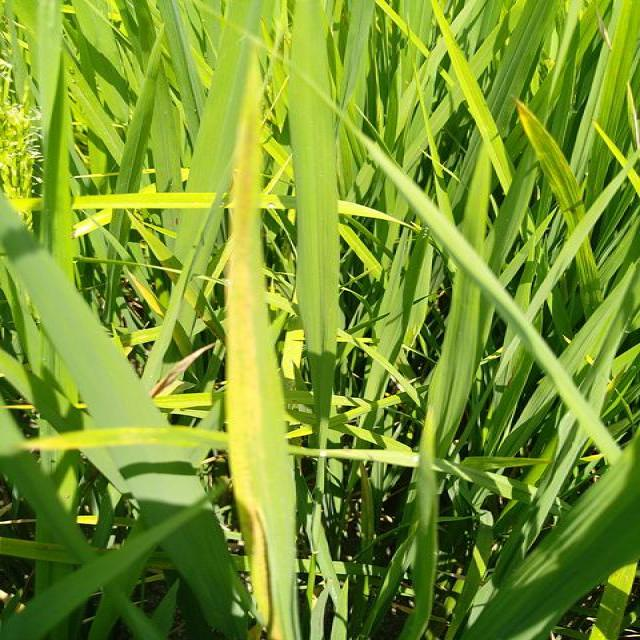Leaf Streak: (225, 114, 276, 634), (20, 428, 229, 452)
